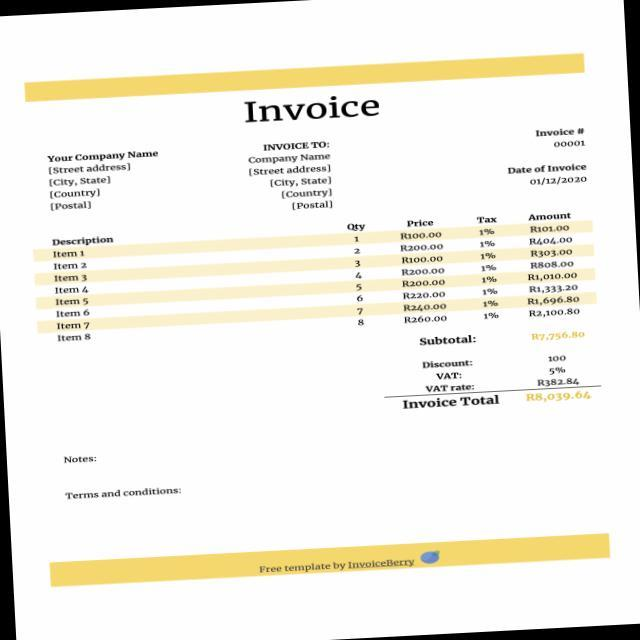customer_address: (46, 162, 143, 203), (243, 164, 333, 202)
customer_name: (245, 151, 335, 163)
invoice_date: (525, 175, 591, 186)
invoice_number: (549, 136, 592, 151)
invoice_subtotal: (527, 328, 588, 345)
invoice_total: (523, 388, 590, 404)
item_description: (44, 248, 99, 348)
item_quantity: (340, 233, 374, 329)
item_total_price: (524, 220, 582, 324)
item_unit_price: (395, 230, 454, 326)
supplier_name: (44, 145, 166, 164)
tax_amount: (531, 375, 582, 389)
tax_rate: (537, 364, 573, 374)
